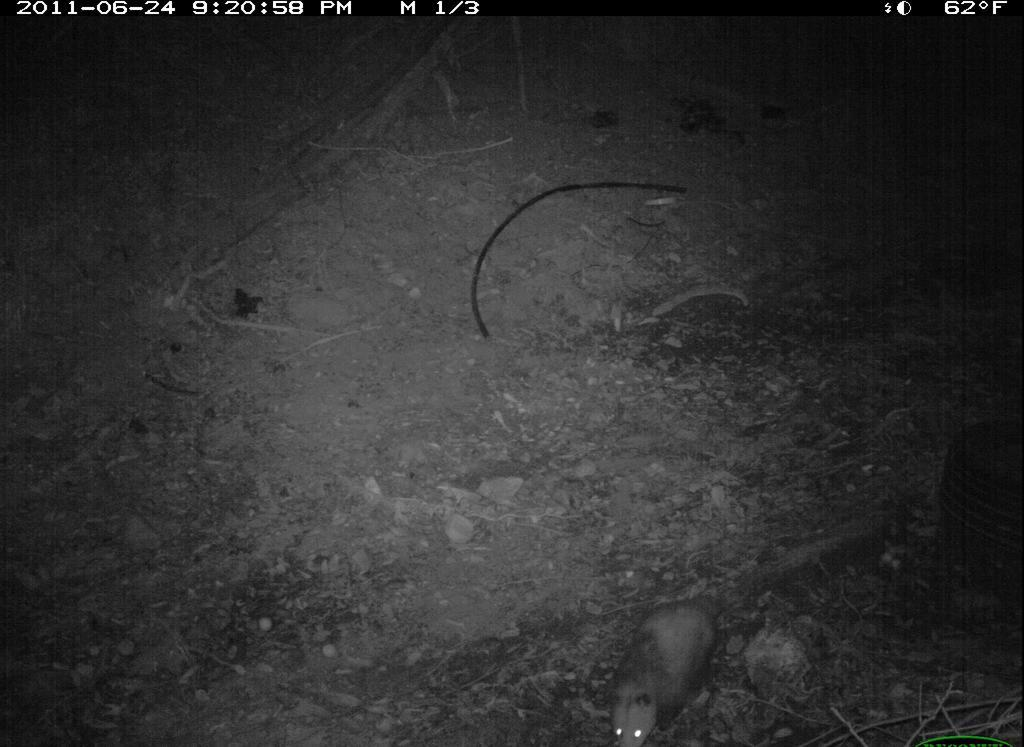opossum: (600, 557, 747, 747)
